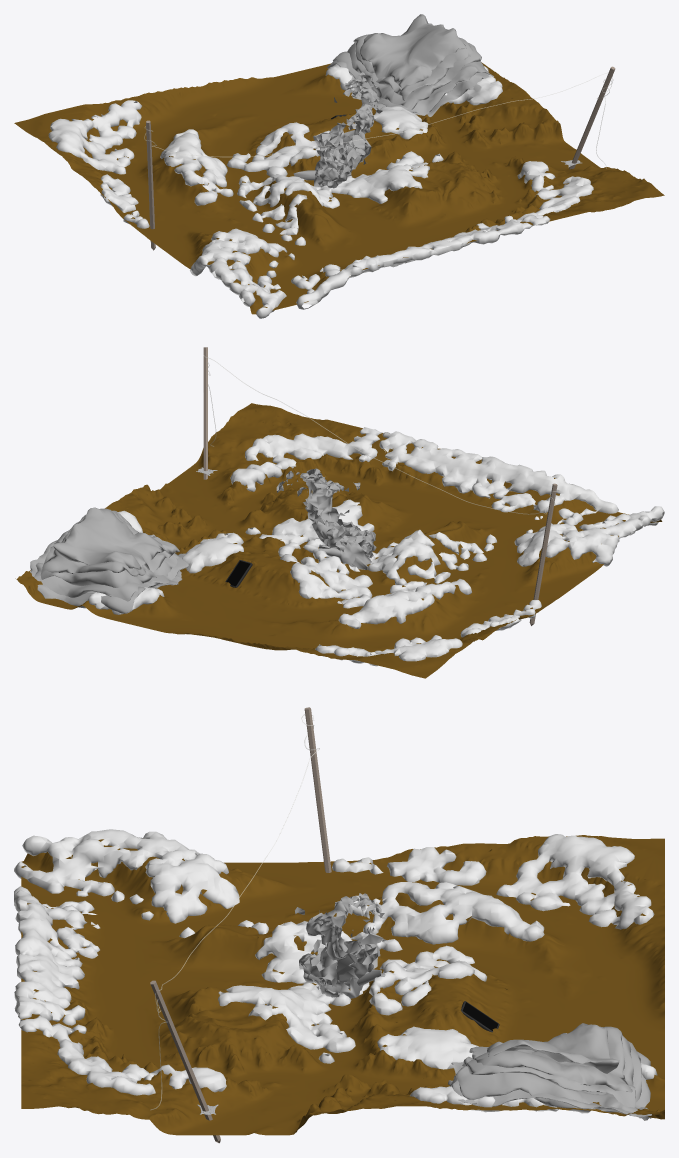
Rendered from destruction.fbx.
3 renders of one model, top to bottom at view 1: azimuth 30°, elevation 25°; view 2: azimuth 150°, elevation 25°; view 3: azimuth 270°, elevation 25°, orthographic. The views are drawn at different scales.
Parts seen in each view (by area): view 1: terrain1, wax, snow2, snow3, snow4, snow6, fire, snow8, snow, snow10, snow9, snow1 (+4 smaller); view 2: terrain1, wax, snow4, snow2, snow3, snow10, fire, snow, snow8, snow6, snow9, snow1 (+4 smaller); view 3: terrain1, wax, snow3, snow2, snow6, snow4, snow8, fire, snow10, snow, snow1, snow9 (+3 smaller).
Part boxes in pixels (<box>): terrain1: <box>14,62,664,314</box>; wax: <box>327,14,493,116</box>; snow2: <box>237,151,443,245</box>; snow3: <box>190,228,294,318</box>; snow4: <box>291,219,532,309</box>; snow6: <box>48,100,141,174</box>; fire: <box>313,72,382,188</box>; snow8: <box>160,129,233,205</box>; snow: <box>227,122,329,177</box>; snow10: <box>504,161,593,225</box>; snow9: <box>373,106,428,139</box>; snow1: <box>100,174,149,228</box>; terrain1: <box>15,403,662,678</box>; wax: <box>30,507,188,613</box>; snow4: <box>379,431,618,525</box>; snow2: <box>245,499,496,593</box>; snow3: <box>514,506,664,566</box>; snow10: <box>230,427,382,491</box>; fire: <box>276,468,376,566</box>; snow: <box>278,542,372,608</box>; snow8: <box>338,579,471,628</box>; snow6: <box>315,635,462,666</box>; snow9: <box>182,532,243,573</box>; snow1: <box>460,600,541,637</box>; terrain1: <box>21,835,664,1135</box>; wax: <box>448,1023,651,1120</box>; snow3: <box>14,829,239,923</box>; snow2: <box>179,920,402,1063</box>; snow6: <box>496,834,654,929</box>; snow4: <box>14,886,100,1025</box>; snow8: <box>349,882,544,944</box>; fire: <box>295,893,385,998</box>; snow10: <box>18,1015,226,1095</box>; snow: <box>369,945,486,1015</box>; snow1: <box>332,847,486,885</box>; snow9: <box>377,1026,478,1069</box>.
Bounding box in the file's own units: 203 × 64.59 × 202.
